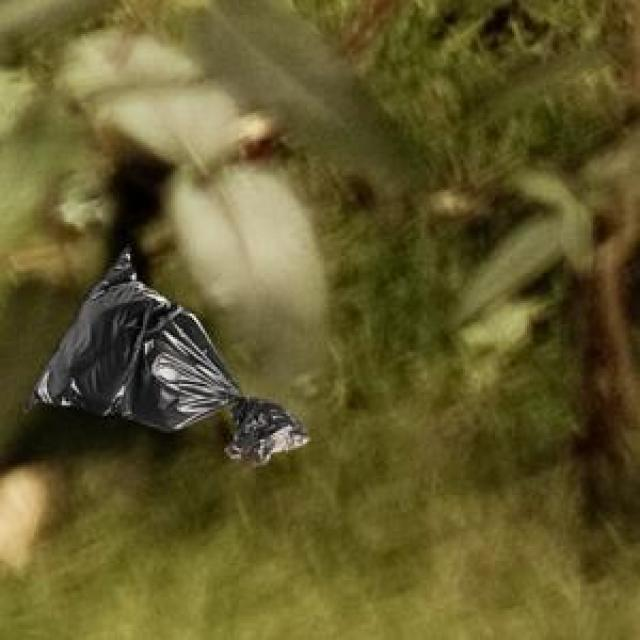waste: (30, 246, 307, 464)
